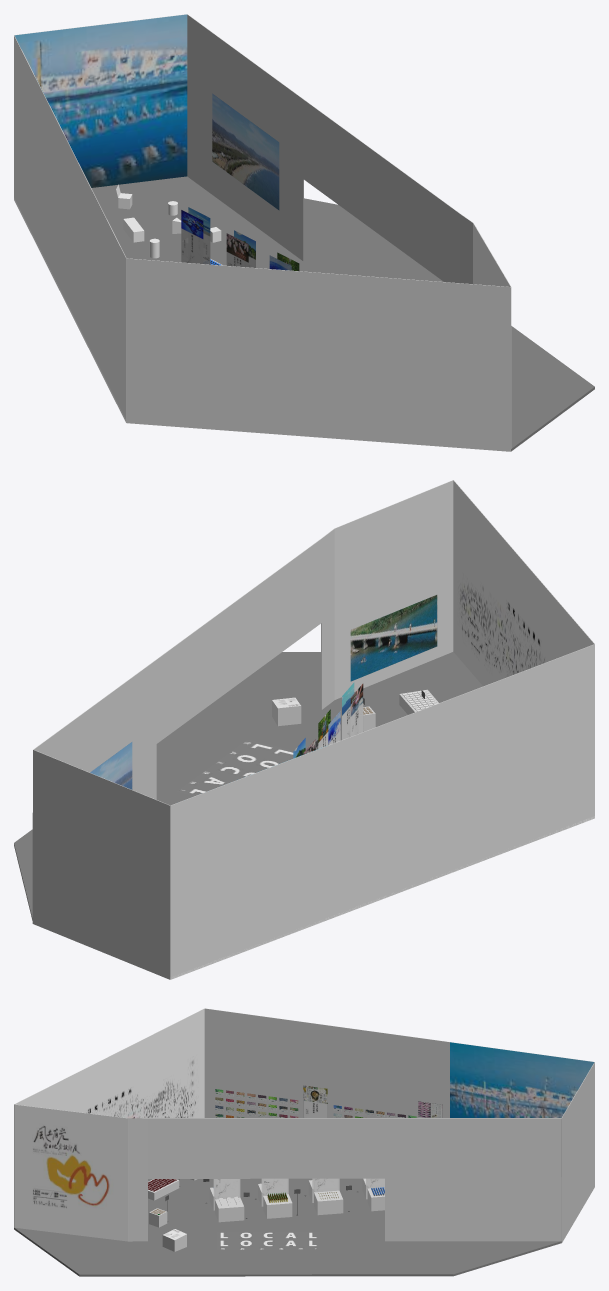
File: taiwan4圧縮版-3.glb
The picture shows the model from 3 angles, top to bottom: view 1: azimuth 30°, elevation 25°; view 2: azimuth 150°, elevation 25°; view 3: azimuth 270°, elevation 25°; orthographic projection. The views are drawn at different scales.
Parts seen in each view (by area): view 1: Cube021, Cube014, 平面, Cube012, Cube011, ポスター10, Cube017, タペストリー6007, Cube010, タペストリー6003; view 2: Cube014, Cube016, Cube012, Cube017, 平面005, Cube011, 平面007, 平面004, Cube010, ポスター10, Cube013; view 3: Cube014, Cube012, Cube011, 平面006, 平面005, 平面, Cube016, Cube010, 平面004, タペストリー2, 立方体007, 立方体003 (+5 smaller).
Part boxes in pixels (x1,y1,x2,y2): Cube021: (126,258,510,451); Cube014: (14,14,303,419); 平面: (14,14,187,187); Cube012: (91,176,594,451); Cube011: (303,99,459,282); ポスター10: (212,93,279,210); Cube017: (473,223,511,448); タペストリー6007: (181,210,203,263); Cube010: (459,213,472,283); タペストリー6003: (226,233,248,267); Cube014: (33,644,594,979); Cube016: (32,749,170,979); Cube012: (14,652,482,920); Cube017: (334,480,453,699); 平面005: (453,480,593,686); Cube011: (156,538,321,743); 平面007: (350,595,437,681); 平面004: (176,739,293,796); Cube010: (321,528,334,709); ポスター10: (90,742,132,789); Cube013: (170,816,594,979); Cube014: (204,1008,593,1241); Cube012: (14,1178,561,1276); Cube011: (148,1118,384,1178); 平面006: (14,1104,127,1241); 平面005: (14,1009,204,1118); 平面: (450,1042,594,1117); Cube016: (561,1062,594,1242); Cube010: (128,1118,147,1241); 平面004: (217,1232,320,1250); タペストリー2: (303,1085,327,1117); 立方体007: (314,1190,343,1215); 立方体003: (215,1197,244,1222).
Size of the model in its own units: 15.66 by 6.4 by 26.87.
144 materials, 85 textured.
